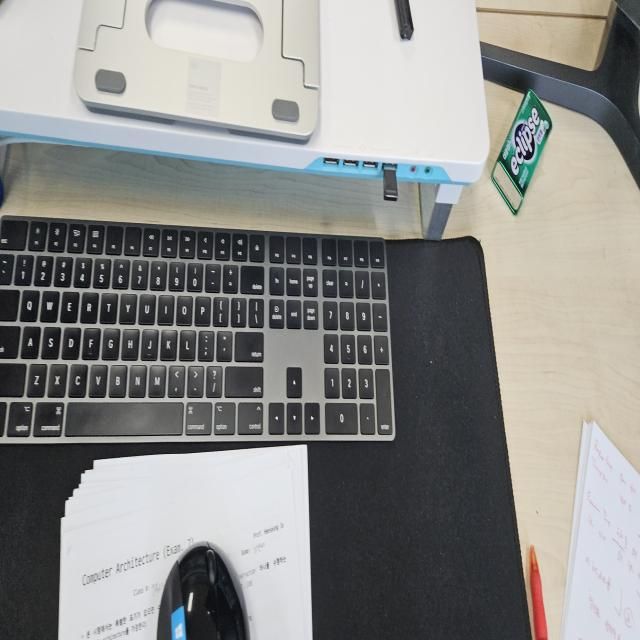Keyboard: (1, 213, 397, 447)
Mouse: (154, 538, 250, 637)
